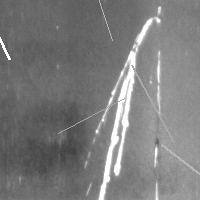scratches: (89, 17, 153, 198), (127, 60, 179, 147), (53, 93, 129, 138), (156, 139, 200, 200), (76, 0, 117, 45), (151, 46, 164, 137), (0, 0, 14, 64), (151, 140, 161, 200)
